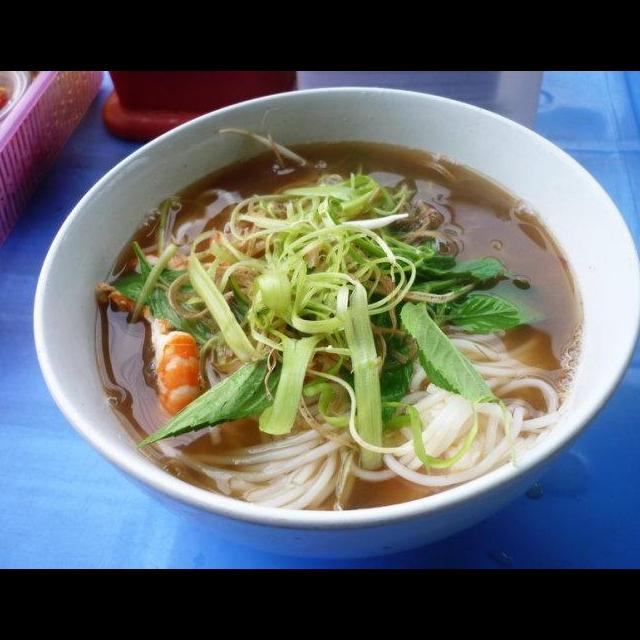bun: (145, 313, 568, 521)
tom: (144, 312, 206, 436)
